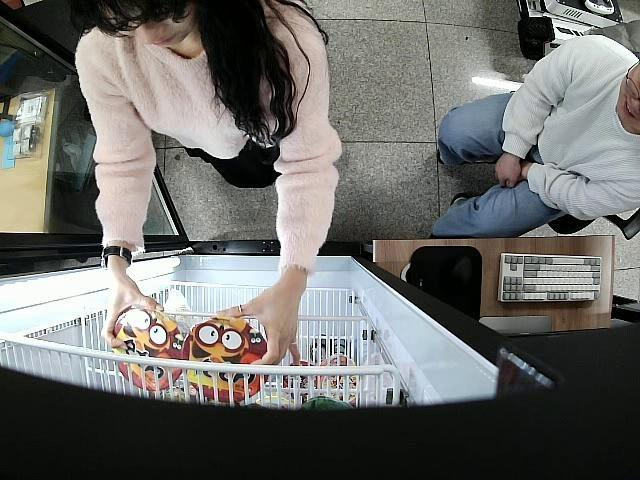05_nuguri_L: (183, 316, 270, 406), (112, 305, 186, 390)
